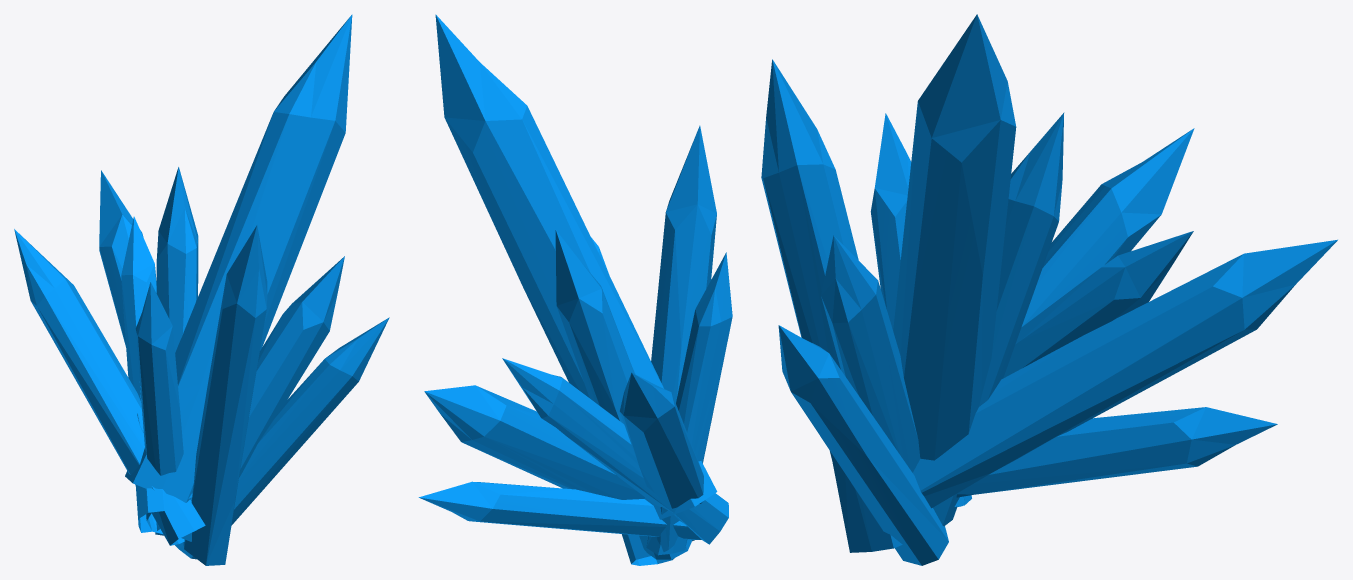
File: crystal3.fbx
The picture shows the model from 3 angles, left to right: view 1: azimuth 30°, elevation 25°; view 2: azimuth 150°, elevation 25°; view 3: azimuth 270°, elevation 25°; orthographic projection. The views are drawn at different scales.
Visible parts, largest first — view 1: Crystal_2_2; view 2: Crystal_2_2; view 3: Crystal_2_2.
Part boxes in pixels (bbox=[...]): Crystal_2_2: bbox=[14, 14, 389, 565]; Crystal_2_2: bbox=[418, 14, 732, 565]; Crystal_2_2: bbox=[761, 14, 1337, 565].
Size of the model in its own units: 2250 by 3875 by 3041.
